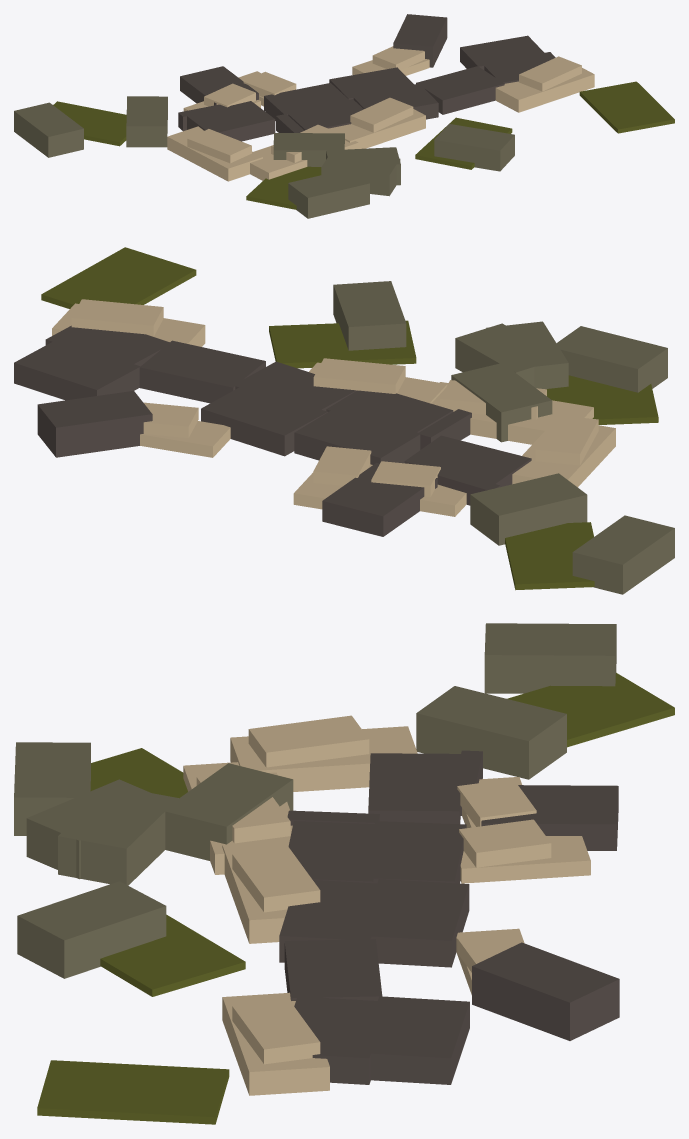
File: SM_SacosRemate_v4_Red_e3_Brecha_LOD1.fbx
The picture shows the model from 3 angles, top to bottom: view 1: azimuth 30°, elevation 25°; view 2: azimuth 150°, elevation 25°; view 3: azimuth 270°, elevation 25°; orthographic projection. The views are drawn at different scales.
Visible parts, largest first — view 1: SM_sacos_piezas_v39_LOD1; view 2: SM_sacos_piezas_v39_LOD1; view 3: SM_sacos_piezas_v39_LOD1.
Part boxes in pixels (left/top/right/bottom): SM_sacos_piezas_v39_LOD1: left=14, top=14, right=674, bottom=218; SM_sacos_piezas_v39_LOD1: left=14, top=247, right=674, bottom=594; SM_sacos_piezas_v39_LOD1: left=14, top=623, right=674, bottom=1124.
Bounding box in the file's own units: 6.72 × 0.26 × 4.05.
